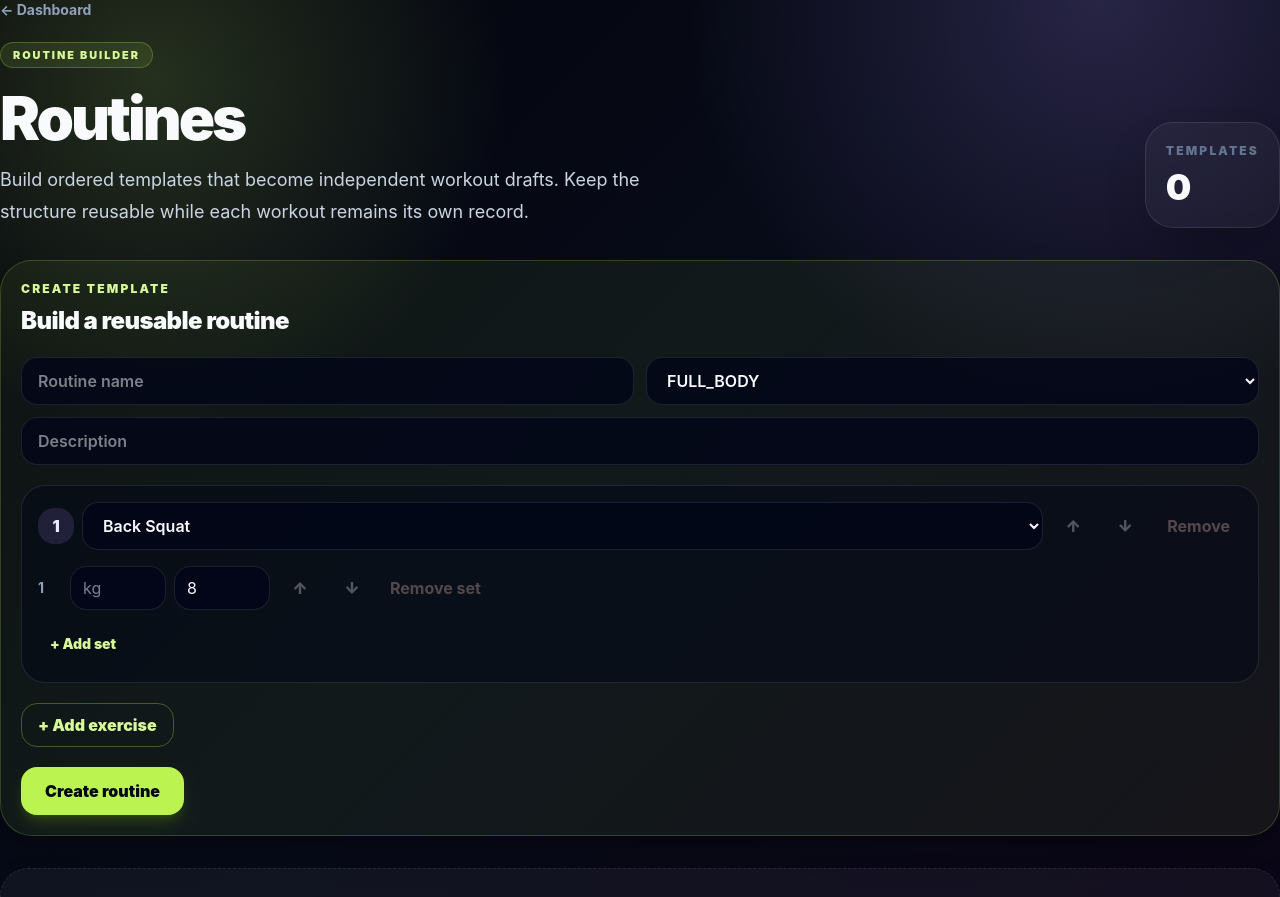
Test: RoutineManager › creates a routine and exposes an independent workout start link
Step 1. Type "Push day" into the field with placeholder "Routine name" → (328, 381), box [21,357,634,405]
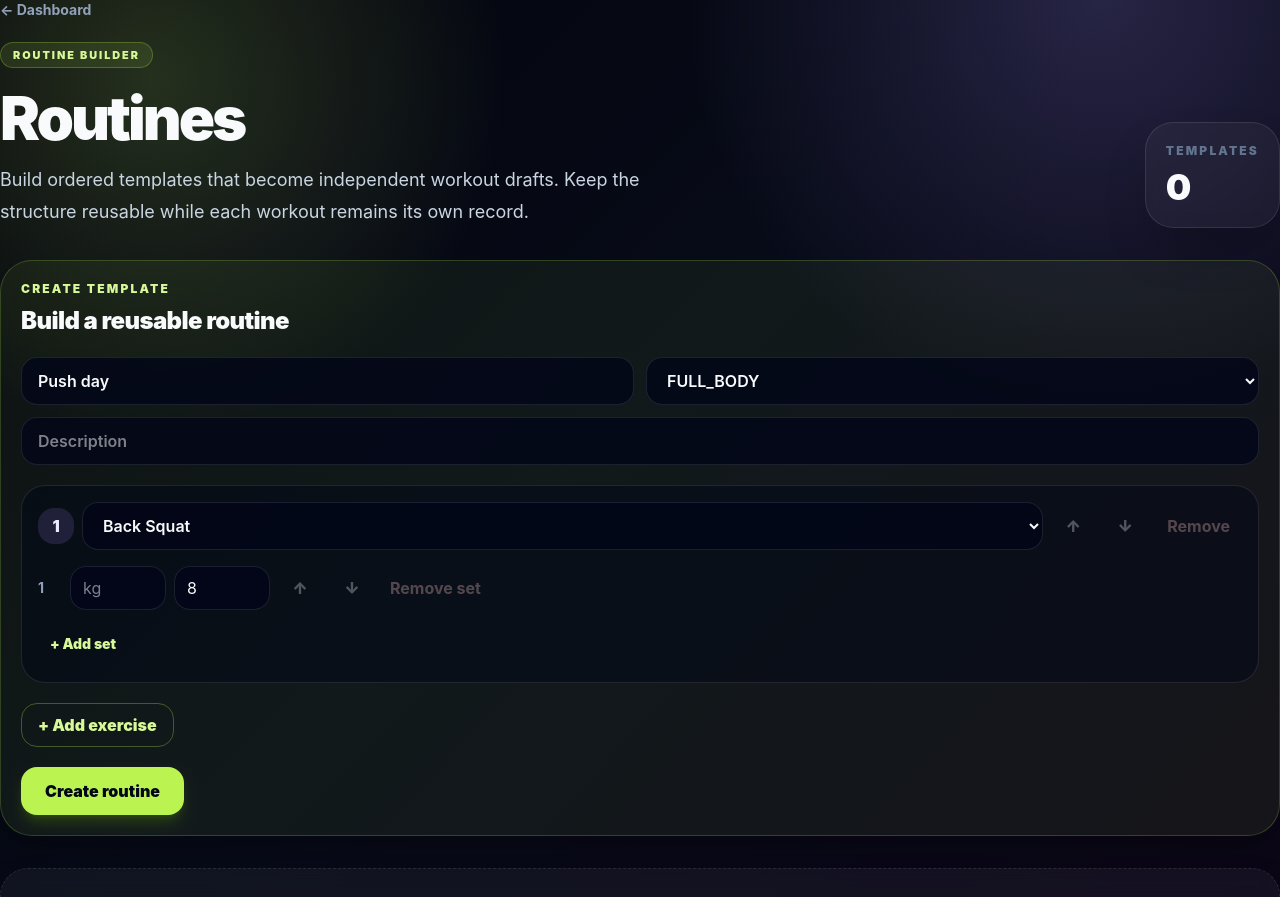
Step 2. Click the button "Create routine" → (102, 791), box [21,767,184,815]
(page scrolled)
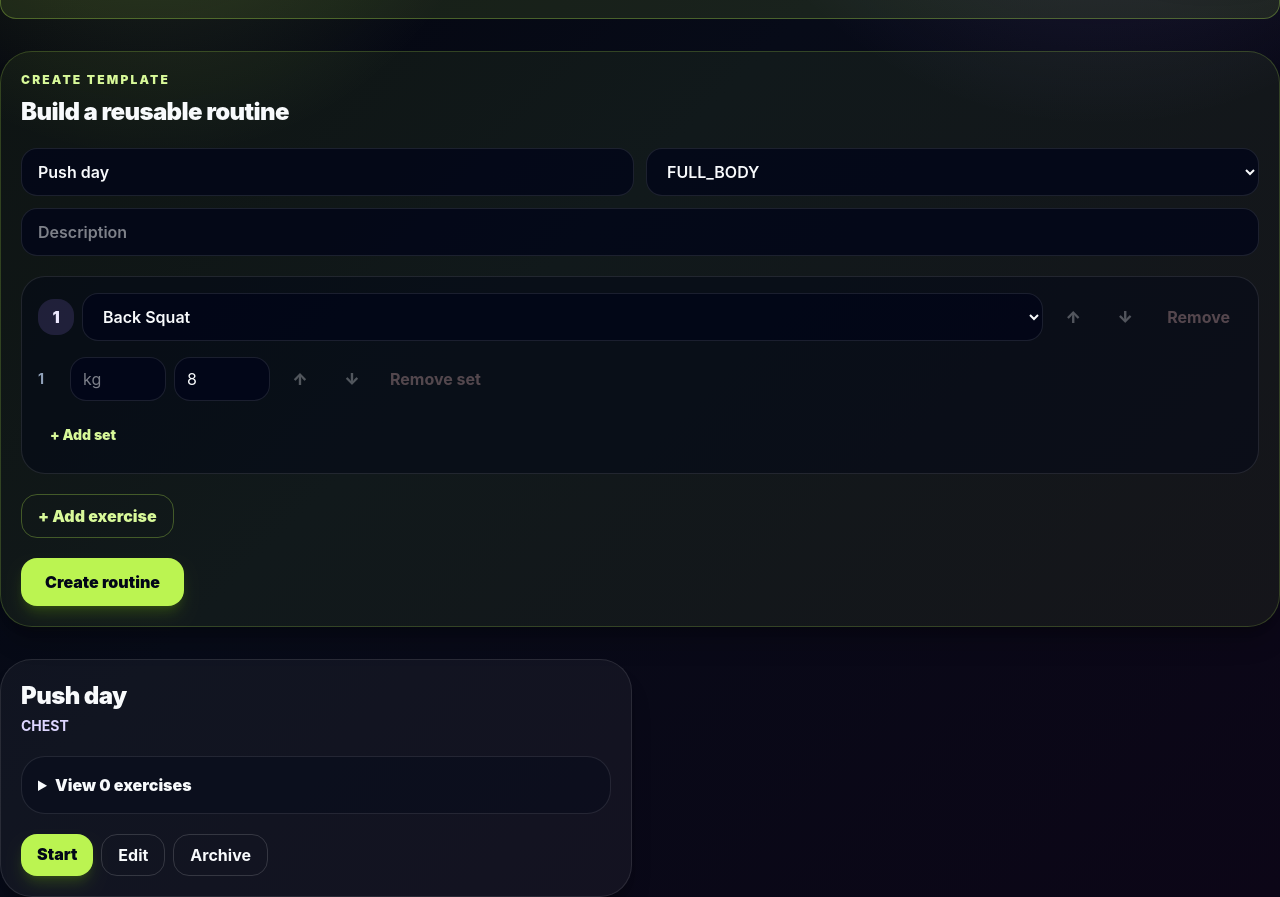
Now the heading "Push day" is shown, box [21,680,127,712]
